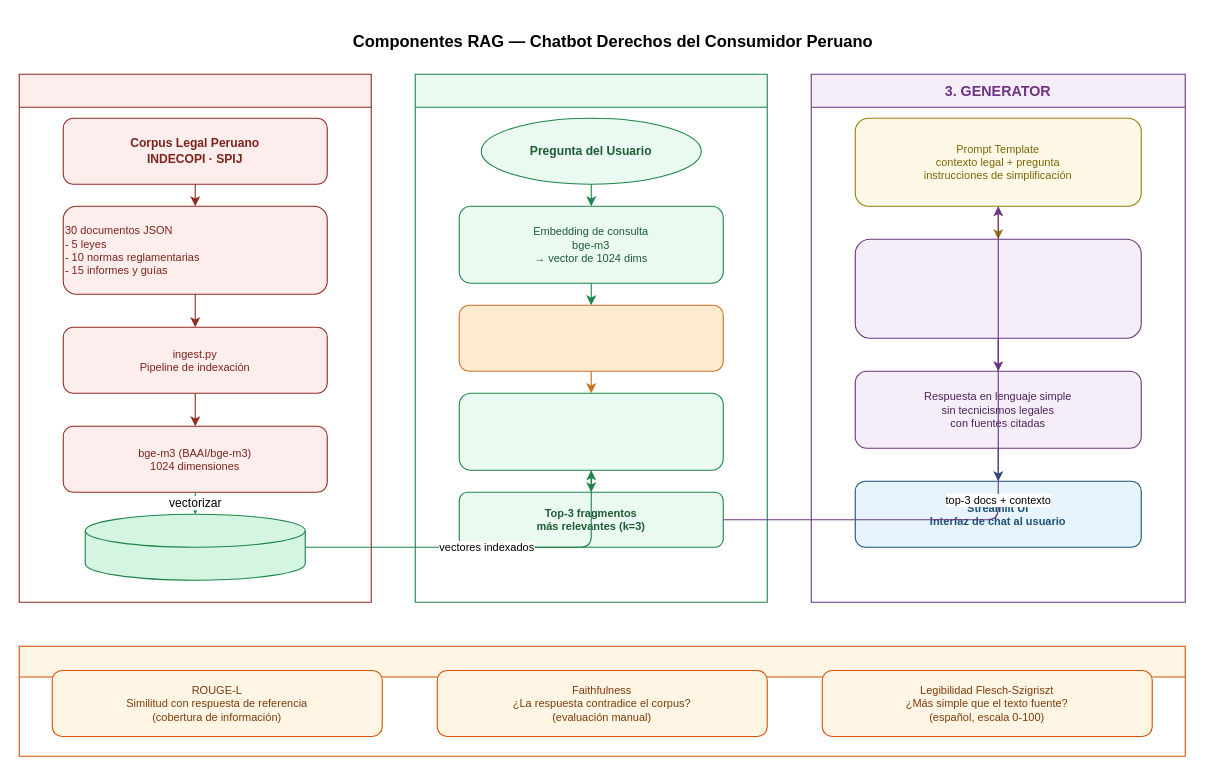
The diagram is 1216 pixels wide and 776 high, and some of its shapes have lost their labels. Each missing label, with the box of its shape:
1. KNOWLEDGE BASE: (18, 73, 371, 602)
2. RETRIEVER: (414, 73, 767, 602)
Búsqueda coseno en ChromaDB (filtrada, 1356 vectores): (458, 392, 723, 470)
ChromaDB 1356 fragmentos indexados embeddings 1024-dim: (84, 513, 305, 580)
MÉTRICAS DE EVALUACIÓN (Fase 2): (18, 645, 1185, 756)
Pre-filtrado por categoría (CATEGORIA_MAP): (458, 304, 723, 371)
qwen2.5:14b 14B parámetros Ollama · RTX 4080 · CUDA ~10 GB VRAM: (854, 238, 1141, 338)
